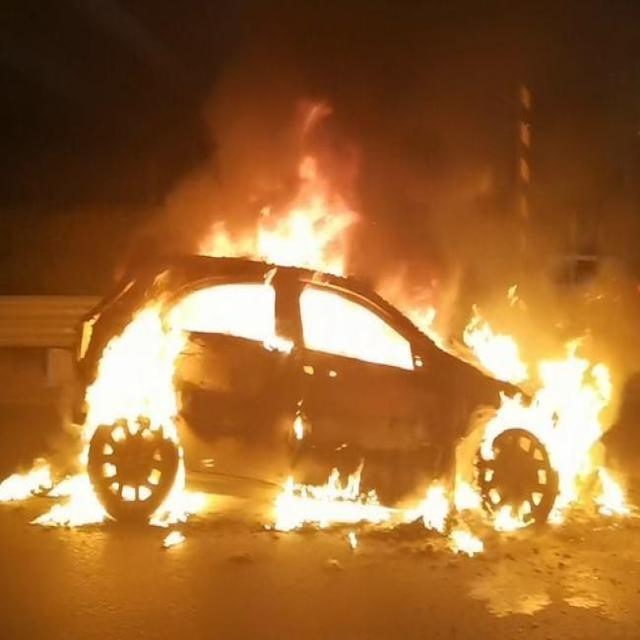Fire: (78, 316, 186, 438), (530, 344, 614, 451), (254, 190, 360, 274), (270, 461, 389, 533), (0, 452, 106, 528), (550, 454, 630, 528), (460, 312, 528, 386), (152, 460, 207, 530), (481, 390, 528, 460), (414, 479, 449, 532), (491, 503, 534, 536), (452, 521, 482, 564), (454, 474, 480, 513)
Smoke: (445, 192, 640, 306), (172, 86, 252, 260)
